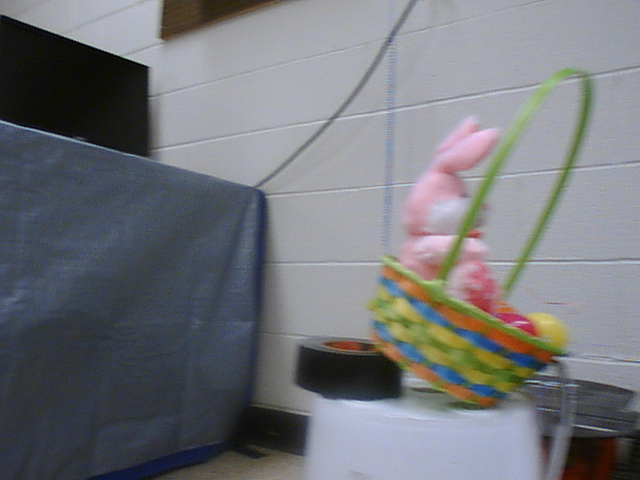bunny: (359, 65, 597, 408)
